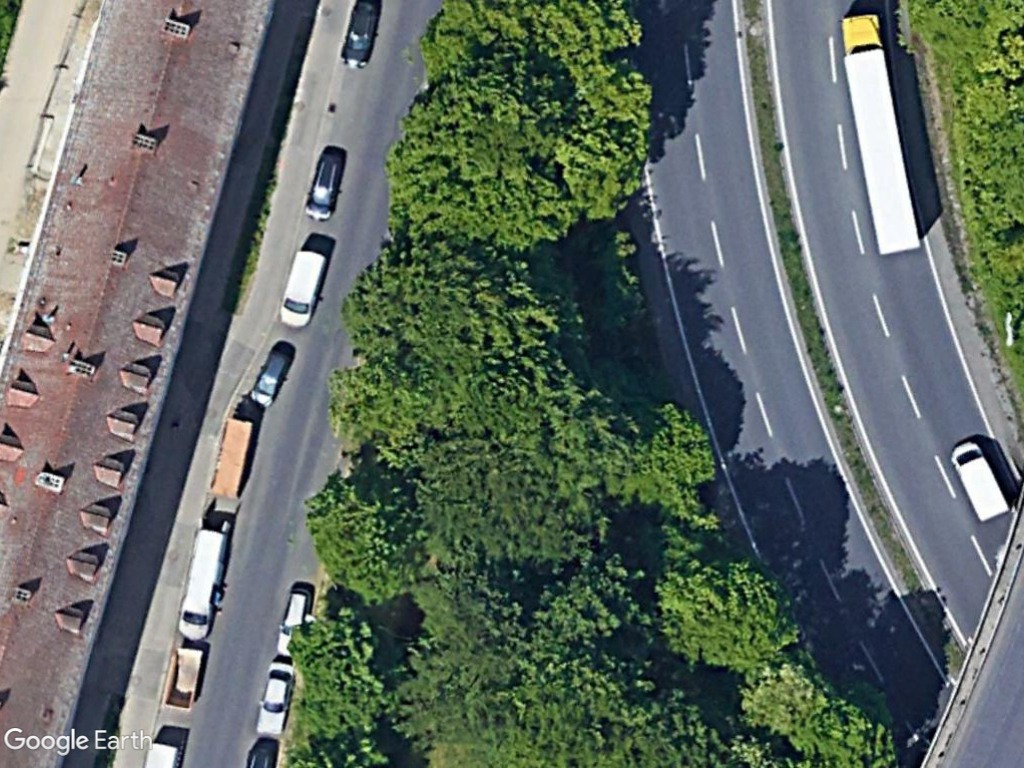car: (253, 658, 298, 736), (338, 0, 383, 72), (246, 344, 293, 410), (303, 149, 345, 222)
longvehicle: (837, 10, 925, 261)
van: (176, 523, 230, 644), (947, 435, 1011, 525), (276, 245, 327, 330)
